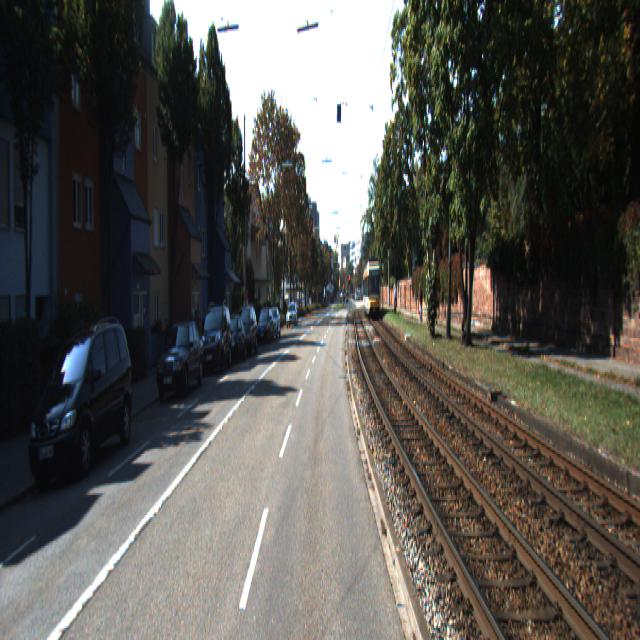Car: (27, 318, 136, 492), (155, 317, 206, 402), (199, 300, 233, 378), (233, 304, 258, 360), (222, 313, 246, 366), (362, 264, 382, 322), (256, 308, 275, 347)
